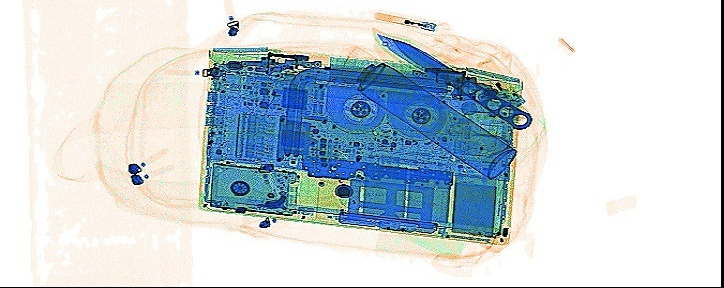knife: (369, 25, 532, 130)
lighter: (475, 55, 524, 110), (372, 10, 435, 32)
pressure: (337, 42, 515, 179)
